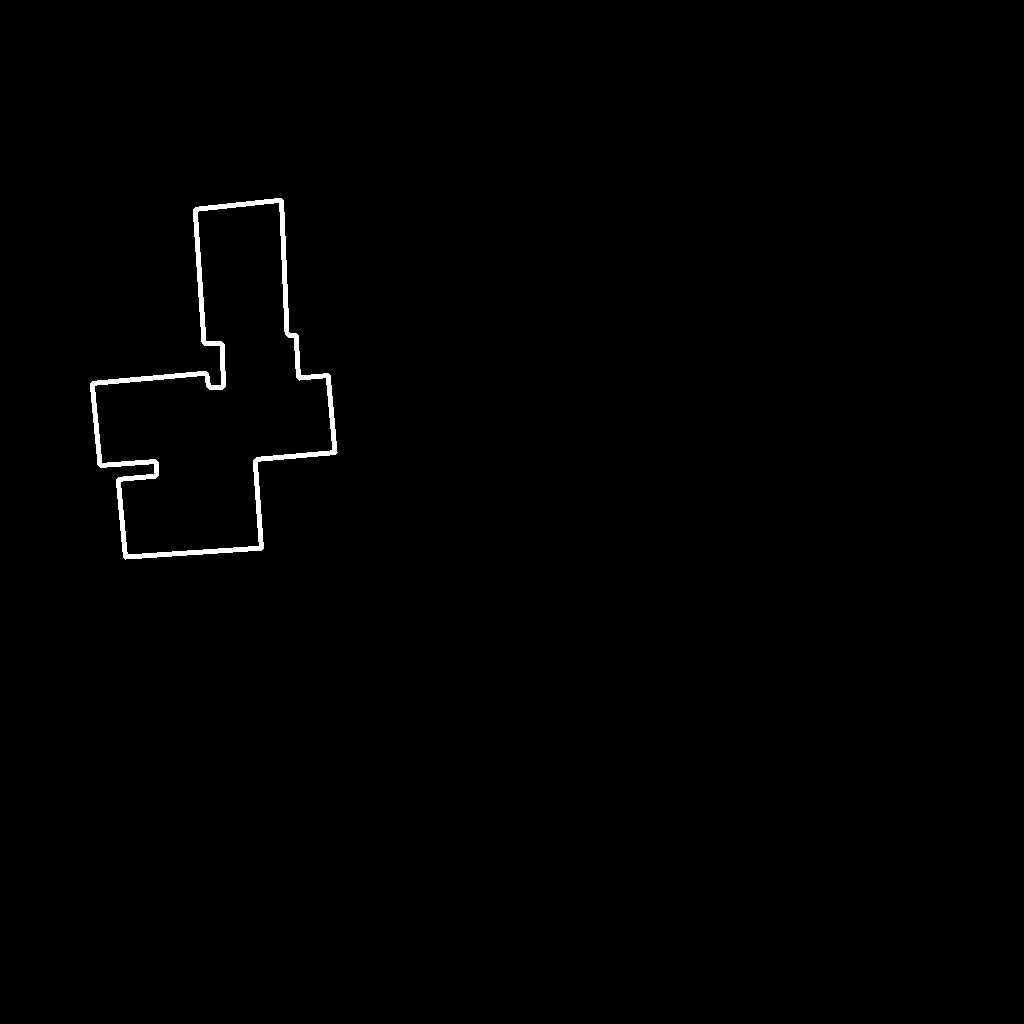building: (92, 200, 336, 558)
